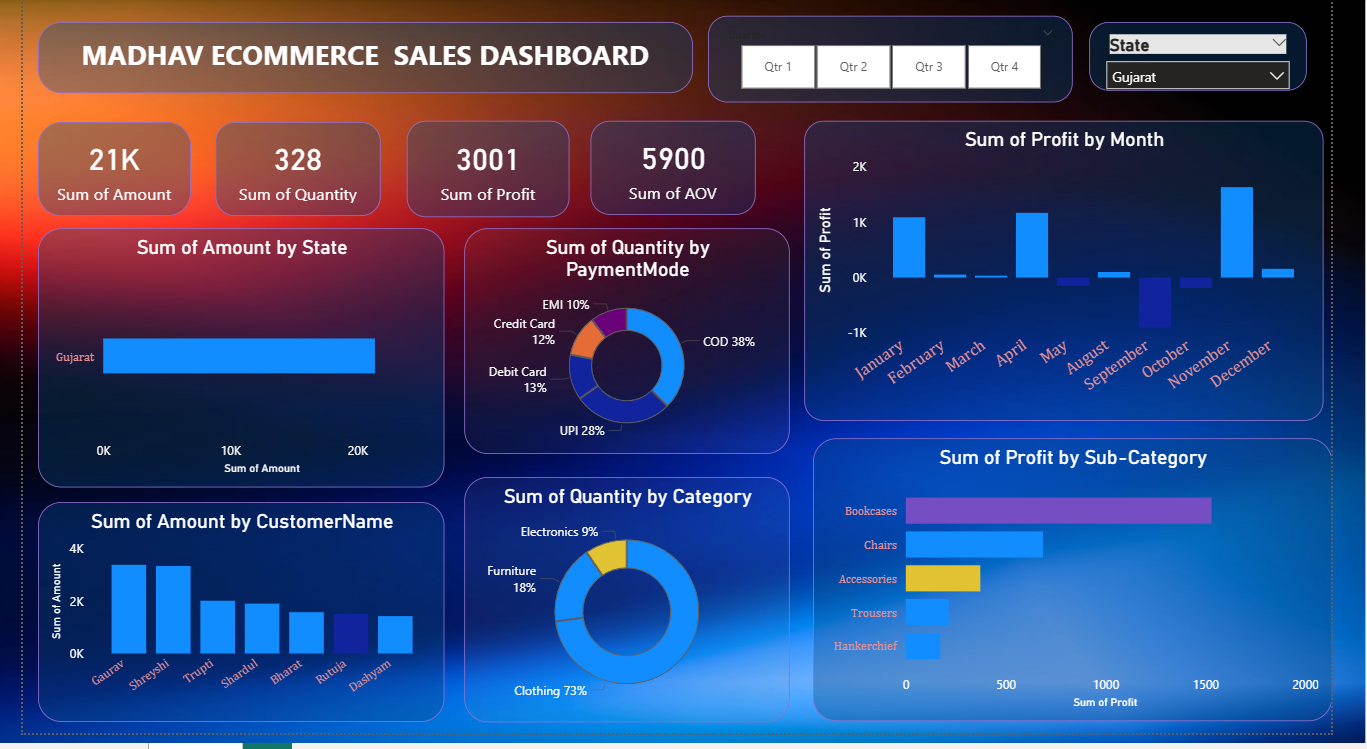

Layout of this report page (visuals, bound fields, positions):
{"tool":"powerbi","page":{"name":"Page 1","canvas":[1280,720],"ordinal":0},"visuals":[{"type":"textbox","box":[15.1,24.7,640.8,70],"z":0},{"type":"columnChart","fields":{"Y":["Sum(Details.Profit)"],"Category":["Orders.Order Date.Variation.Date Hierarchy.Month"]},"box":[764.3,120.8,507.7,293.7],"z":1000},{"type":"barChart","fields":{"Category":["Details.Sub-Category"],"Y":["Sum(Details.Profit)"]},"box":[772.6,432.2,507.7,277.2],"z":2000},{"type":"donutChart","fields":{"Category":["Details.Category"],"Y":["Sum(Details.Quantity)"]},"box":[432.2,469.3,318.4,240.1],"z":3000},{"type":"donutChart","fields":{"Category":["Details.PaymentMode"],"Y":["Sum(Details.Quantity)"]},"box":[432.2,226.4,318.4,220.9],"z":4000},{"type":"card","fields":{"Values":["Sum(Details.Amount)"]},"box":[15.1,122.1,149.6,91.9],"z":5000},{"type":"card","fields":{"Values":["Sum(Details.Quantity)"]},"box":[188.3,122.3,161.4,91.7],"z":6000},{"type":"card","fields":{"Values":["Sum(Details.Profit)"]},"box":[375.4,121.1,159,94.2],"z":7000},{"type":"card","fields":{"Values":["Sum(Details.AOV)"]},"box":[555.2,121.1,161.4,91.7],"z":8000},{"type":"barChart","fields":{"Category":["Orders.State"],"Y":["Sum(Details.Amount)"]},"box":[15.1,226.4,397.9,253.9],"z":9000},{"type":"columnChart","fields":{"Category":["Orders.CustomerName"],"Y":["Sum(Details.Amount)"]},"box":[15.1,494,397.9,215.4],"z":10000},{"type":"slicer","fields":{"Values":["Orders.Order Date.Variation.Date Hierarchy.Quarter"]},"box":[669.6,17.8,356.8,85.1],"z":11000},{"type":"slicer","fields":{"Values":["Orders.State"]},"box":[1043.1,24.5,212.8,67.3],"z":12000}]}

Visuals, with their boxes in screenshot pixels (x1, y1, x2, y2), scaled from the page's 1280x720 canvas onto the 1367x749 screenshot:
textbox: {"x1": 16, "y1": 26, "x2": 700, "y2": 99}
columnChart - Sum(Details.Profit) x Orders.Order Date.Variation.Date Hierarchy.Month: {"x1": 816, "y1": 126, "x2": 1358, "y2": 431}
barChart - Details.Sub-Category x Sum(Details.Profit): {"x1": 825, "y1": 450, "x2": 1366, "y2": 738}
donutChart - Details.Category x Sum(Details.Quantity): {"x1": 462, "y1": 488, "x2": 802, "y2": 738}
donutChart - Details.PaymentMode x Sum(Details.Quantity): {"x1": 462, "y1": 236, "x2": 802, "y2": 465}
card - Sum(Details.Amount): {"x1": 16, "y1": 127, "x2": 176, "y2": 223}
card - Sum(Details.Quantity): {"x1": 201, "y1": 127, "x2": 373, "y2": 223}
card - Sum(Details.Profit): {"x1": 401, "y1": 126, "x2": 571, "y2": 224}
card - Sum(Details.AOV): {"x1": 593, "y1": 126, "x2": 765, "y2": 221}
barChart - Orders.State x Sum(Details.Amount): {"x1": 16, "y1": 236, "x2": 441, "y2": 500}
columnChart - Orders.CustomerName x Sum(Details.Amount): {"x1": 16, "y1": 514, "x2": 441, "y2": 738}
slicer - Orders.Order Date.Variation.Date Hierarchy.Quarter: {"x1": 715, "y1": 19, "x2": 1096, "y2": 107}
slicer - Orders.State: {"x1": 1114, "y1": 25, "x2": 1341, "y2": 95}
